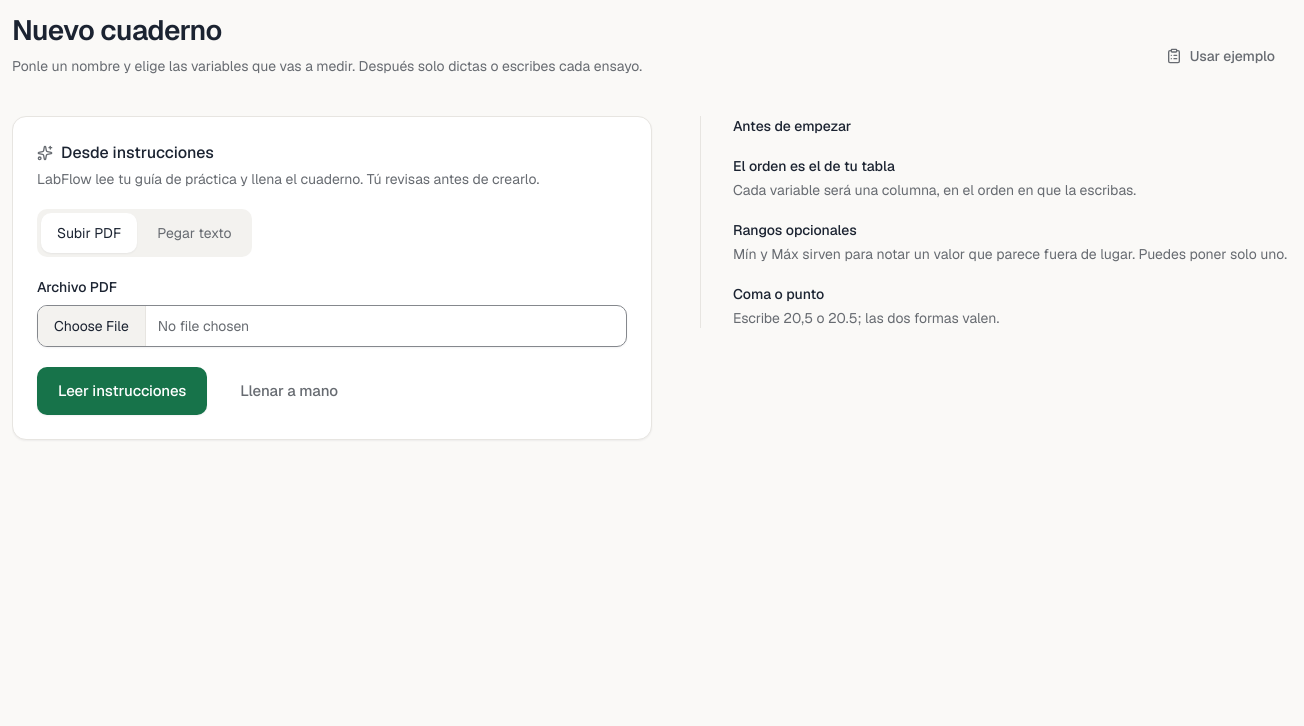
it: Usar ejemplo (AC-6) › comes back when the form is cleared to its first state
The width and height of the screenshot is (1304, 726).
Click the button "Llenar a mano" at [289, 391], box [219,367,359,415]
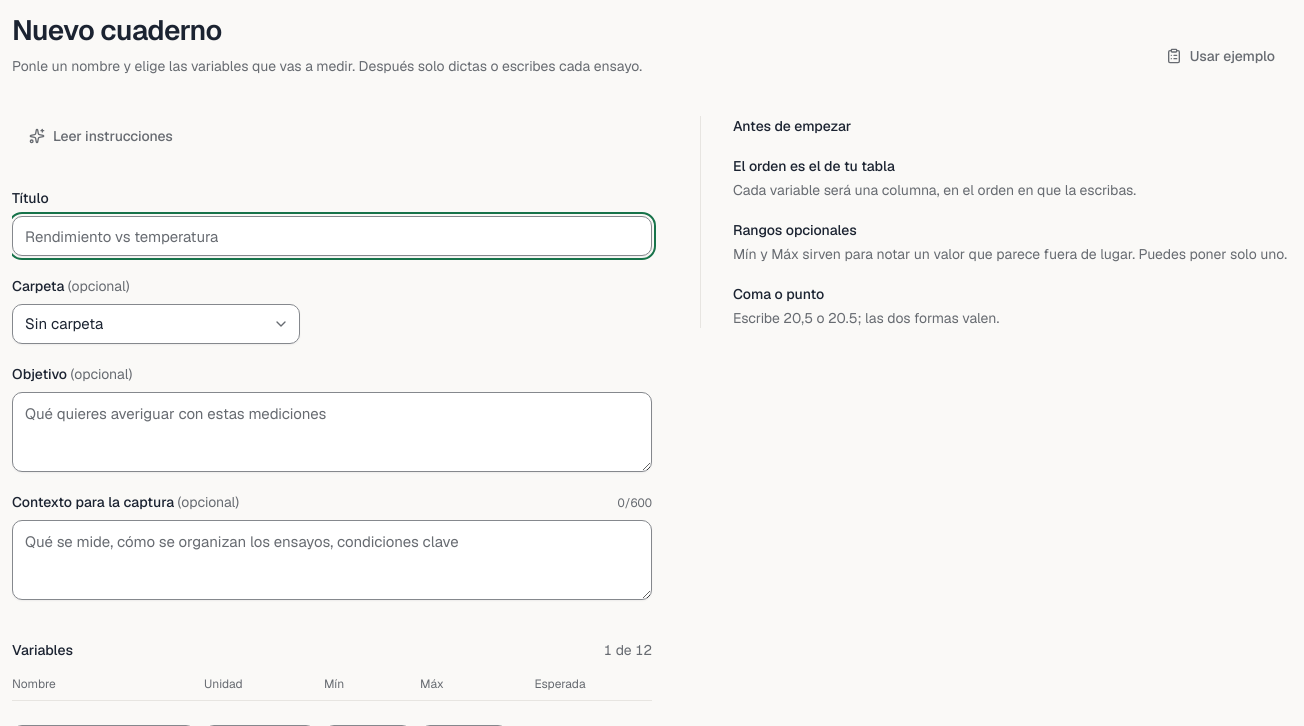
Type "x" into the field labelled "Título" at [332, 236], box [12,216,652,256]
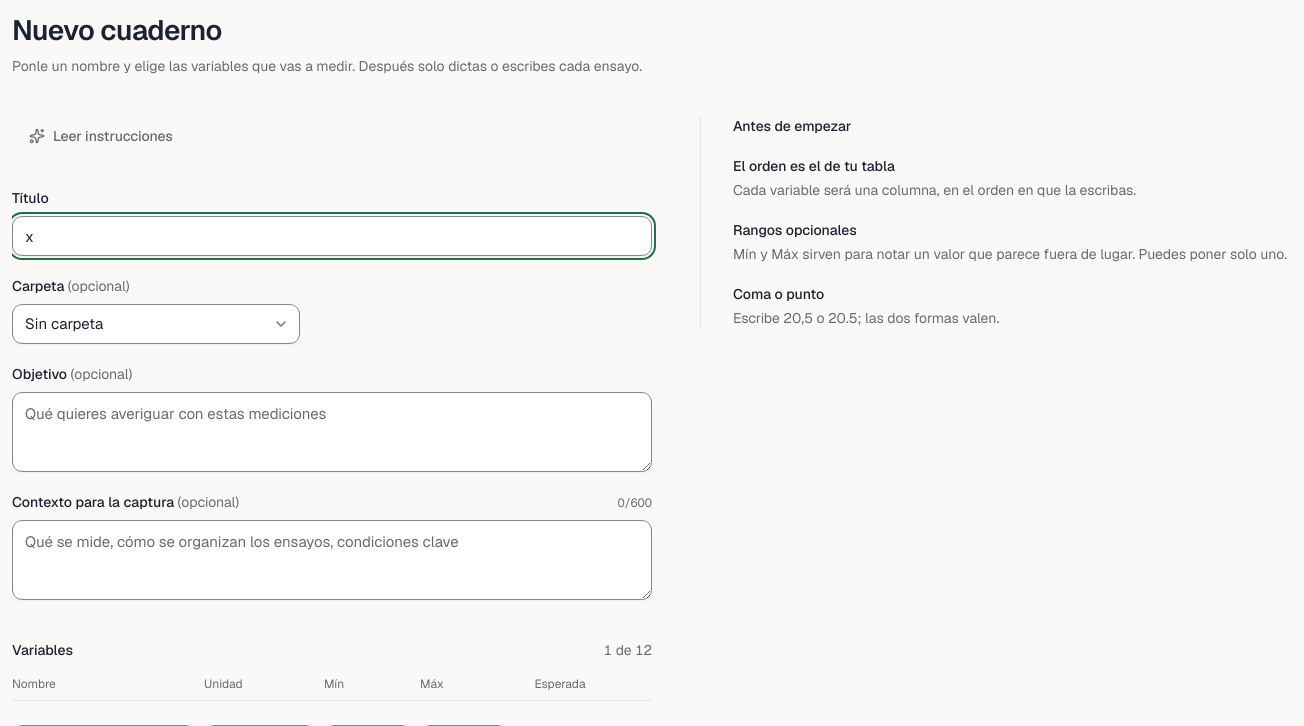
Result: the button "Usar ejemplo" is gone
Clear the field labelled "Título" at [332, 236], box [12,216,652,256]
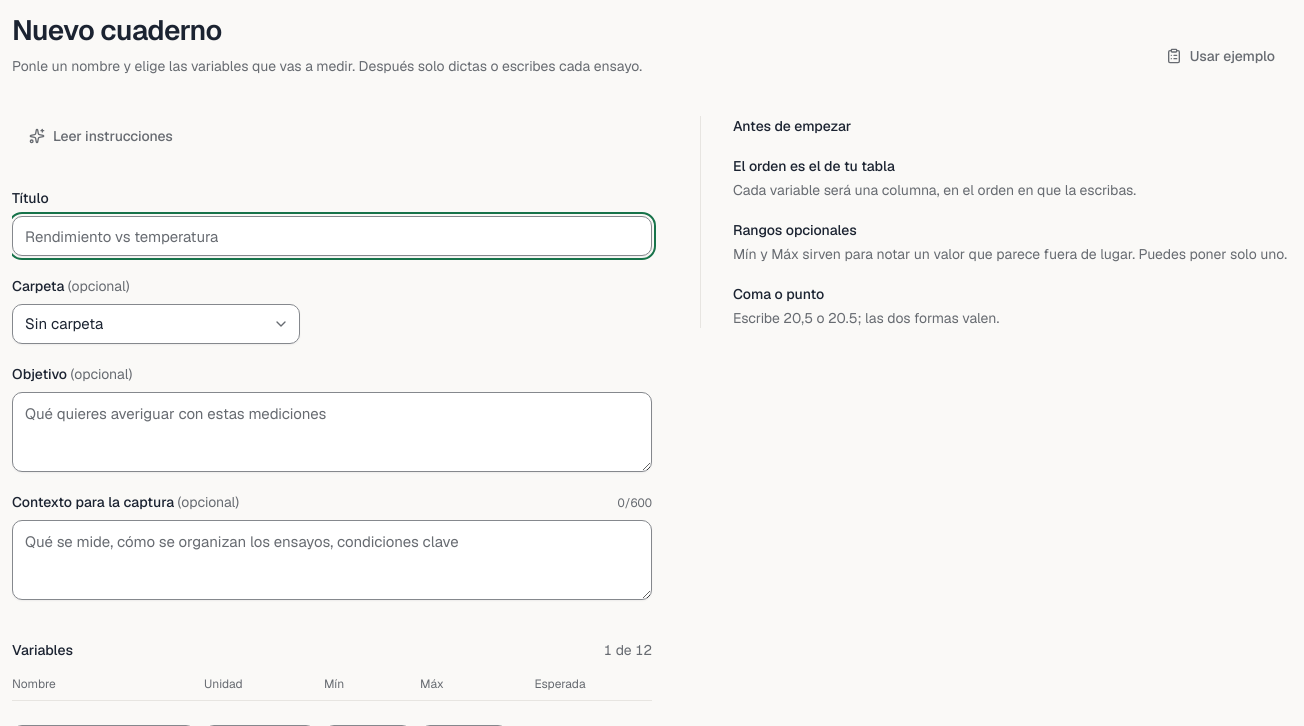
Result: the button "Usar ejemplo" is shown at [1149,36,1292,76]
